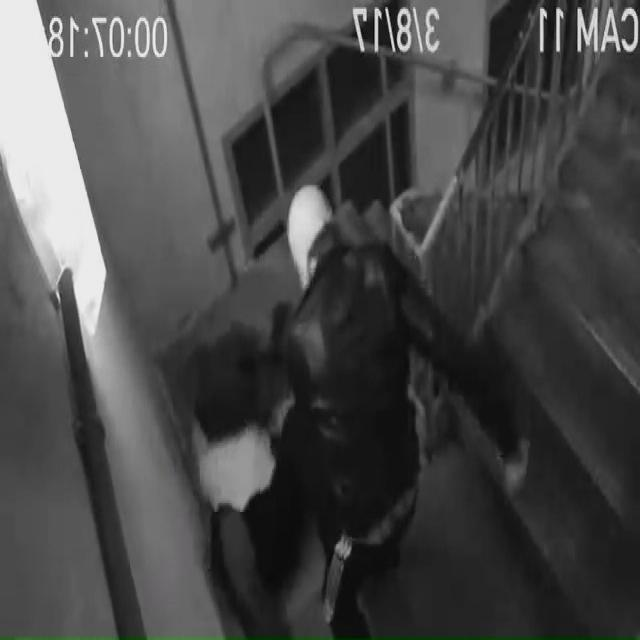fight: (142, 160, 523, 636)
